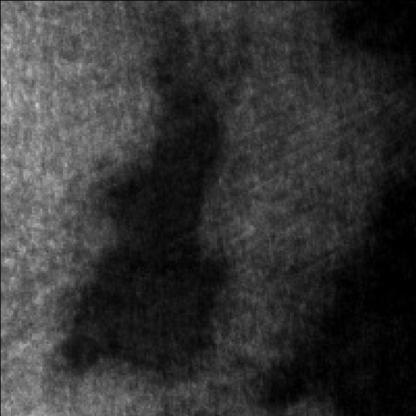patches: (65, 52, 233, 374), (305, 149, 416, 414), (322, 0, 416, 69)
